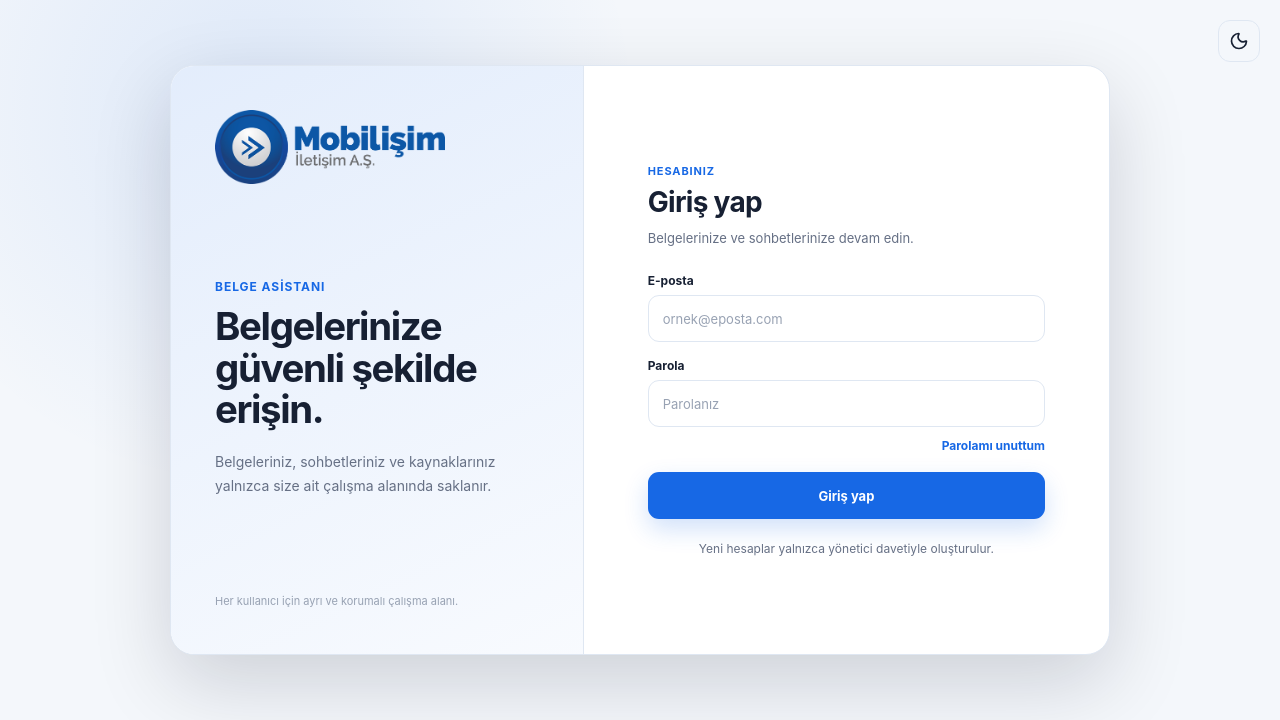
Test: AuthScreen › zorunlu giriş alanlarını sırayla doğrular
Step 1. Click the button "Giriş yap" → (846, 496), box [648, 472, 1045, 519]
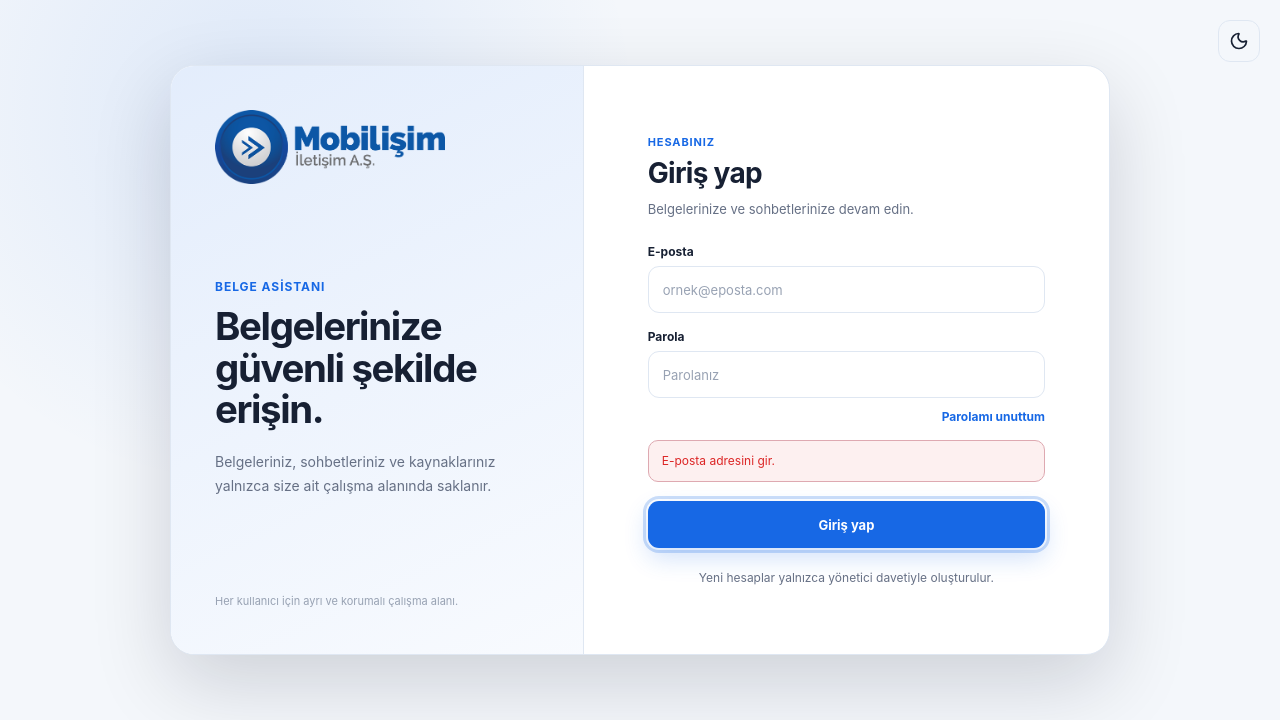
Expected: the message reads "E-posta adresini gir.", [662, 453, 775, 468]
Step 2. Type "user@example.com" into the field labelled "E-posta" → (846, 290), box [648, 266, 1045, 313]
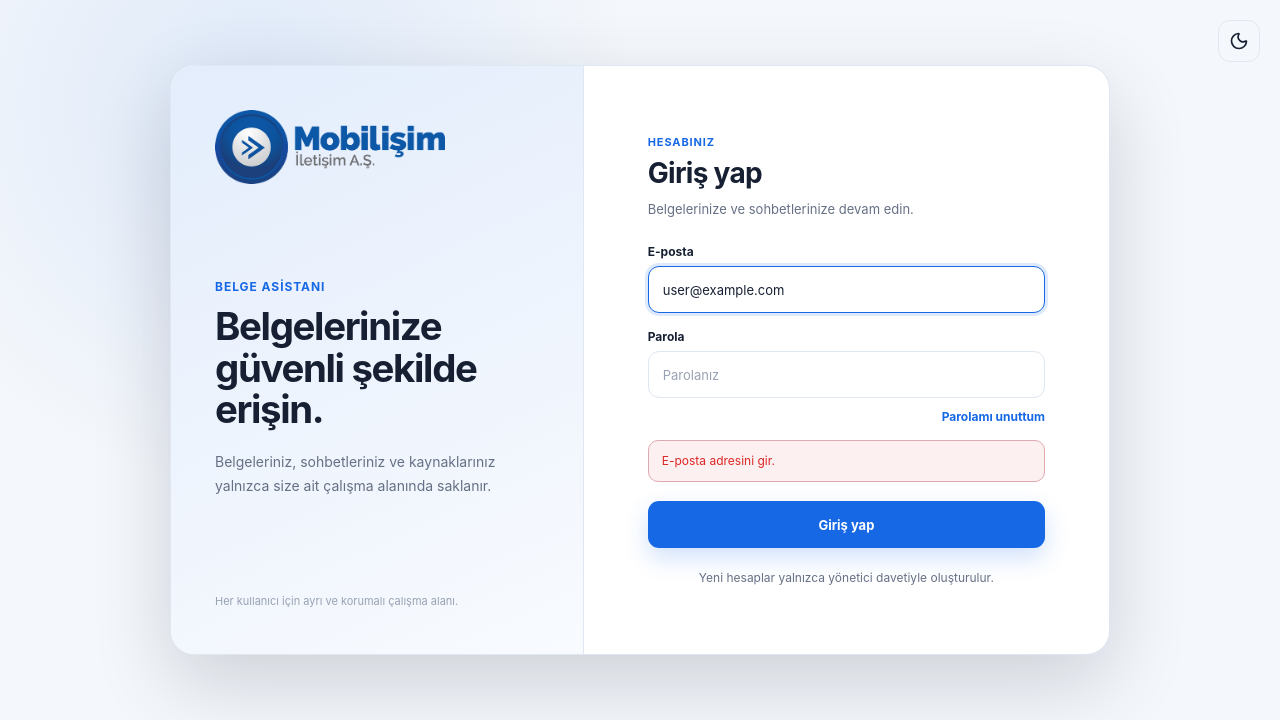
Step 3. Click the button "Giriş yap" → (846, 525), box [648, 501, 1045, 548]
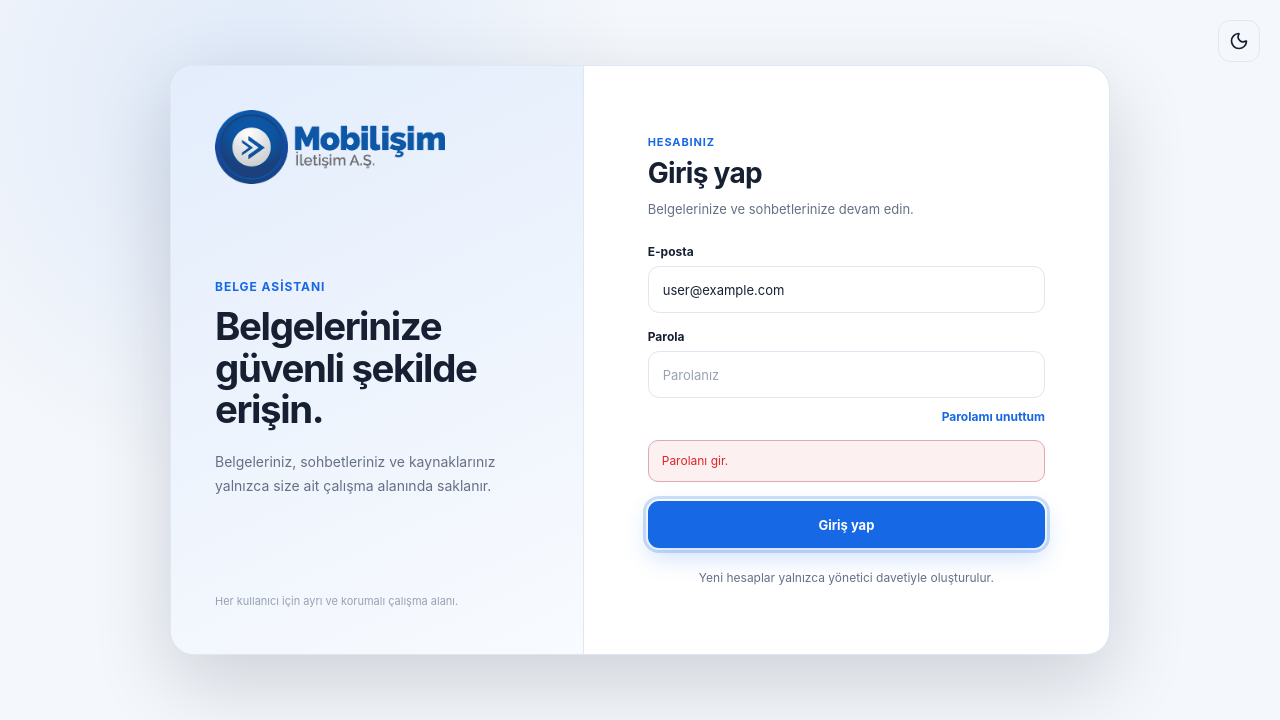
Expected: the message reads "Parolanı gir.", [662, 453, 728, 468]
